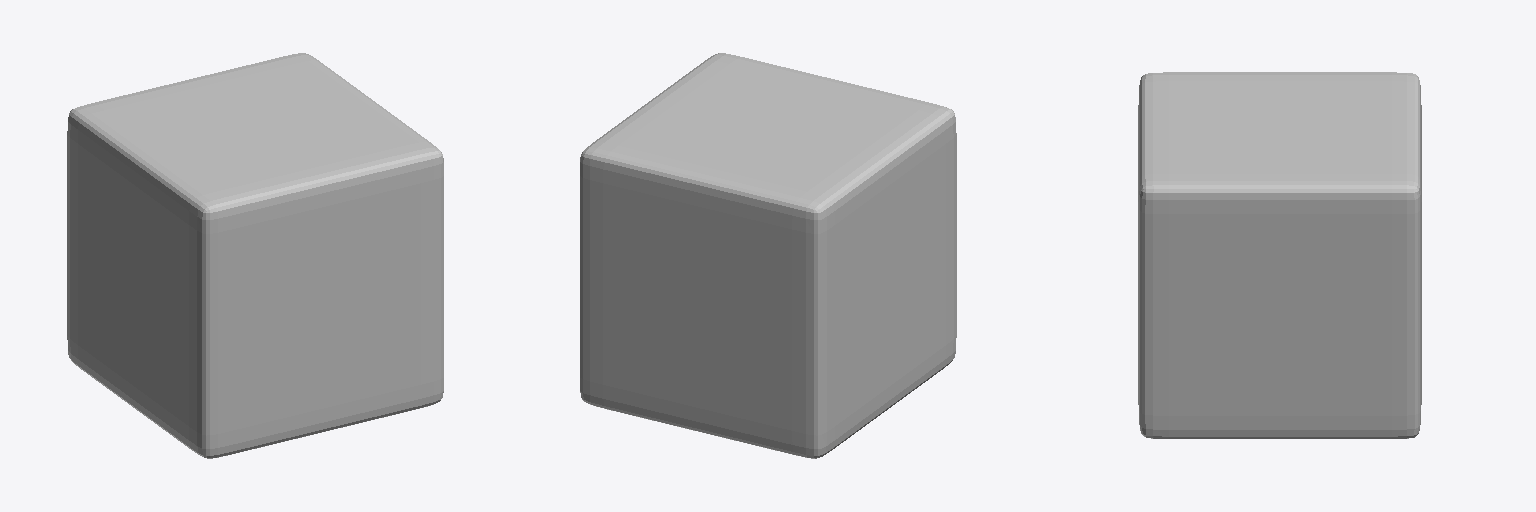
Rendered from rcube.obj.
3 renders of one model, left to right at view 1: azimuth 30°, elevation 25°; view 2: azimuth 150°, elevation 25°; view 3: azimuth 270°, elevation 25°, orthographic.
Parts seen in each view (by area): view 1: Cube; view 2: Cube; view 3: Cube.
Boxes of the visible parts, x1,y1,x2,y2 form: Cube: [67, 53, 443, 458]; Cube: [580, 53, 956, 458]; Cube: [1138, 72, 1421, 438].
Bounding box in the file's own units: 2 × 2 × 2.